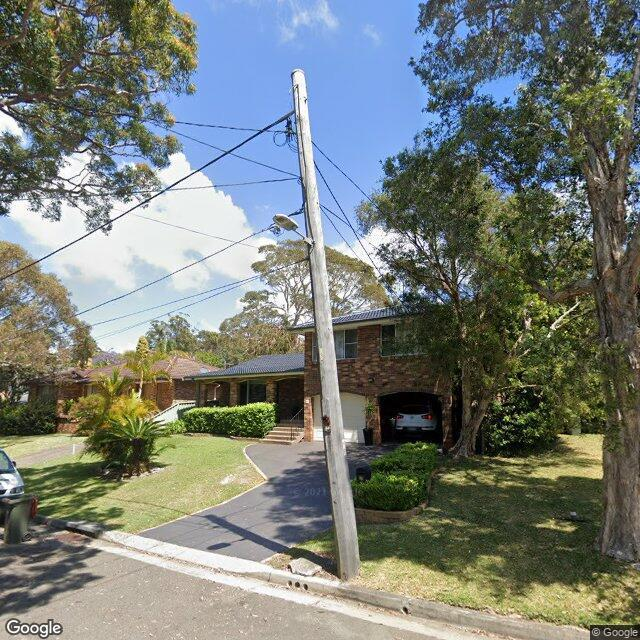streetlight: (273, 213, 315, 248)
timber-pole: (291, 71, 360, 578)
